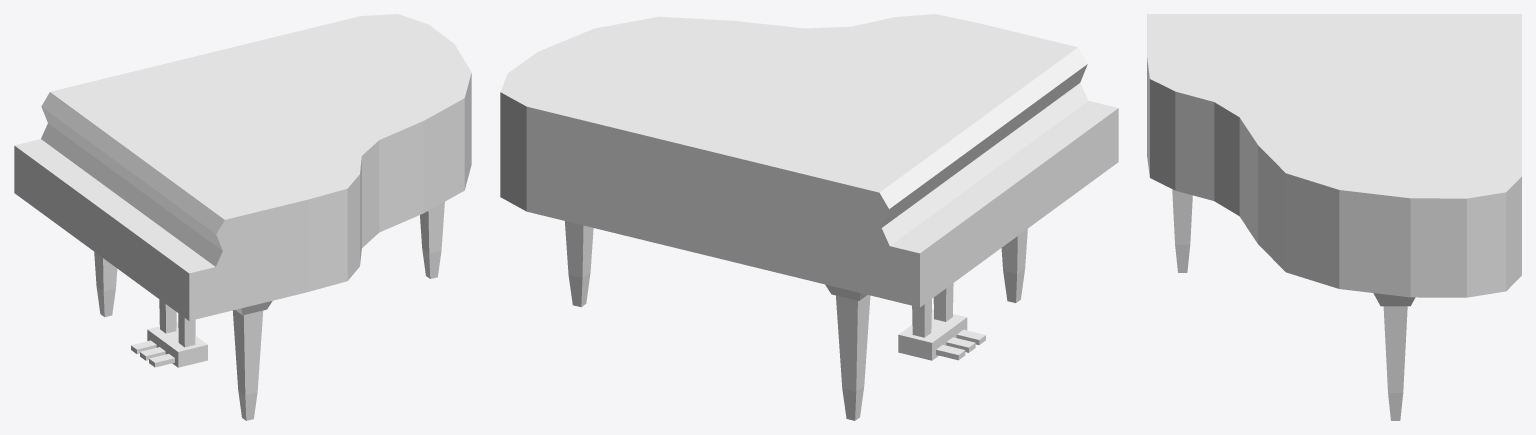
Rendered from Piano_Mesh.fbx.
The picture shows the model from 3 angles, left to right: view 1: azimuth 30°, elevation 25°; view 2: azimuth 150°, elevation 25°; view 3: azimuth 270°, elevation 25°; orthographic projection. The views are drawn at different scales.
Visible parts, largest first — view 1: Piano; view 2: Piano; view 3: Piano.
Boxes of the visible parts, x1,y1,x2,y2 form: Piano: (14, 14, 471, 420); Piano: (500, 14, 1118, 420); Piano: (1147, 14, 1521, 420).
Size of the model in its own units: 294 by 159 by 229.
